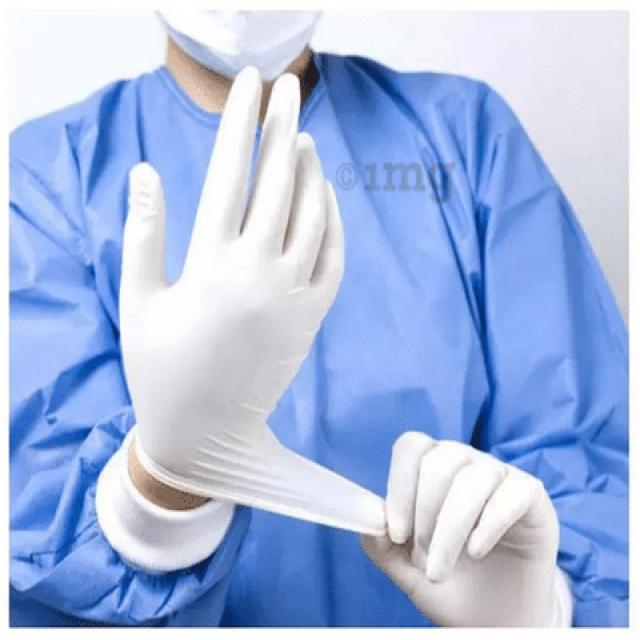Gloves: (123, 91, 333, 502), (362, 419, 570, 627)
